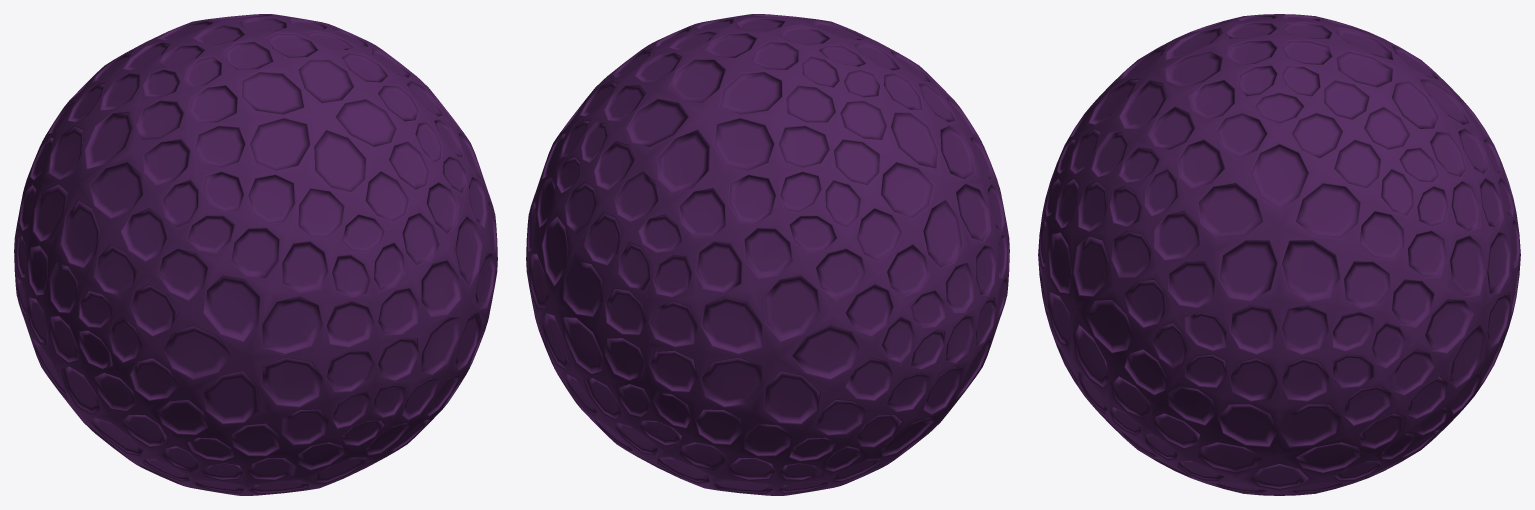
The model's file is GolfBall_v2_dark.fbx.
3 views of the same model, side by side, from view 1: azimuth 30°, elevation 25°; view 2: azimuth 150°, elevation 25°; view 3: azimuth 270°, elevation 25° (orthographic).
Parts seen in each view (by area): view 1: Golf_Ball_v1_001_Model; view 2: Golf_Ball_v1_001_Model; view 3: Golf_Ball_v1_001_Model.
Part boxes in pixels (x1=…): Golf_Ball_v1_001_Model: x1=14, y1=14, x2=497, y2=495; Golf_Ball_v1_001_Model: x1=526, y1=14, x2=1009, y2=495; Golf_Ball_v1_001_Model: x1=1038, y1=14, x2=1520, y2=495.
Bounding box in the file's own units: 7.4 × 7.4 × 7.4.
